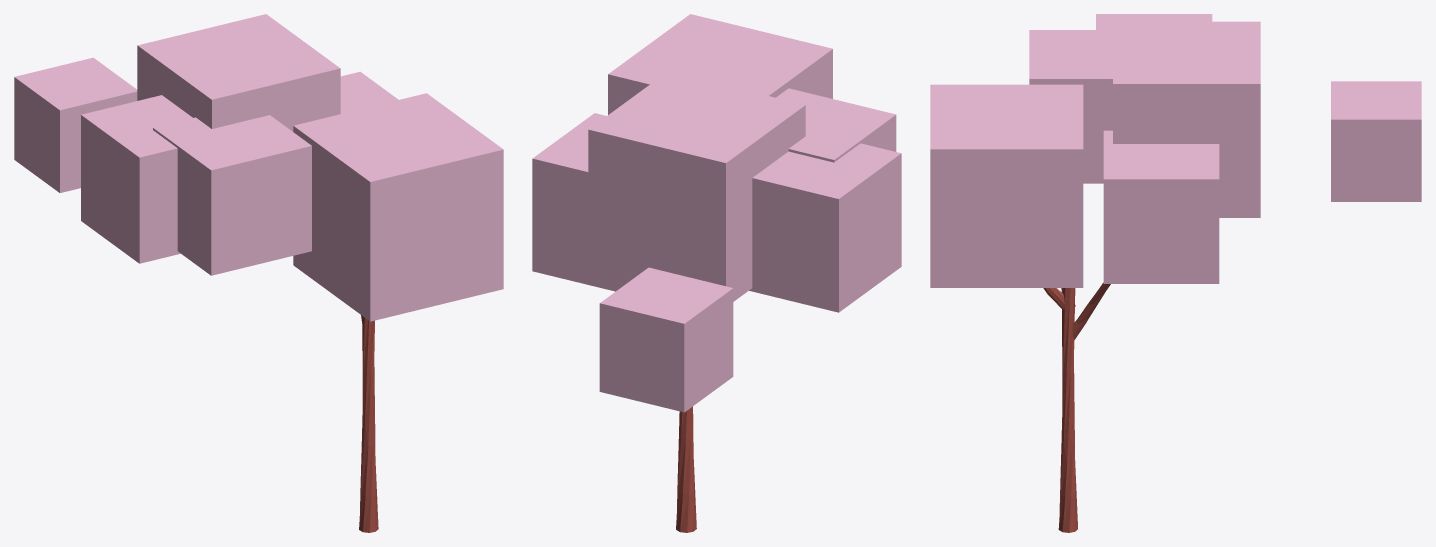
Rendered from Square Tree.fbx.
The picture shows the model from 3 angles, left to right: view 1: azimuth 30°, elevation 25°; view 2: azimuth 150°, elevation 25°; view 3: azimuth 270°, elevation 25°; orthographic projection. The views are drawn at different scales.
Visible parts, largest first — view 1: Cube, Cube_1_2, Cube_3, Cube_4, Cube_1_3, Cylinder_4, Cube_1; view 2: Cube_3, Cube_4, Cube_1_3, Cube, Cube_1, Cube_1_2, Cylinder_4; view 3: Cube, Cube_3, Cube_1, Cube_1_3, Cube_1_2, Cylinder_4, Cube_4.
Part boxes in pixels (bbox=[...]): Cube: bbox=[293, 93, 503, 321]; Cube_1_2: bbox=[153, 115, 311, 275]; Cube_3: bbox=[137, 14, 340, 131]; Cube_4: bbox=[81, 95, 192, 263]; Cube_1_3: bbox=[14, 57, 137, 192]; Cylinder_4: bbox=[359, 316, 378, 532]; Cube_1: bbox=[340, 71, 398, 113]; Cube_3: bbox=[588, 71, 805, 301]; Cube_4: bbox=[749, 143, 901, 312]; Cube_1_3: bbox=[599, 267, 733, 412]; Cube: bbox=[608, 14, 832, 114]; Cube_1: bbox=[532, 113, 626, 291]; Cube_1_2: bbox=[776, 88, 896, 162]; Cylinder_4: bbox=[676, 406, 696, 532]; Cube: bbox=[930, 84, 1083, 287]; Cube_3: bbox=[1113, 21, 1260, 217]; Cube_1: bbox=[1103, 130, 1219, 283]; Cube_1_3: bbox=[1331, 81, 1421, 201]; Cube_1_2: bbox=[1029, 30, 1112, 183]; Cylinder_4: bbox=[1058, 288, 1077, 532]; Cube_4: bbox=[1096, 14, 1212, 29].
Bounding box in the file's own units: 167 × 252 × 254.
